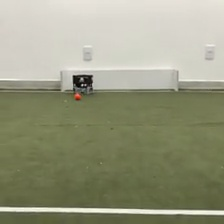ball: (73, 91, 82, 101)
goal: (58, 67, 181, 94)
robot: (70, 72, 95, 95)
